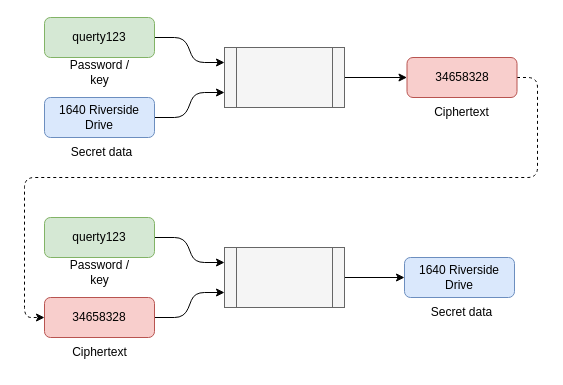
Image size: 563x385. Some labels were removed from this diagram. Here are the shapes that lost their labels. From the top down, the box of each, then its label:
(224, 46, 344, 108): Encryption
(224, 246, 344, 308): Decryption
